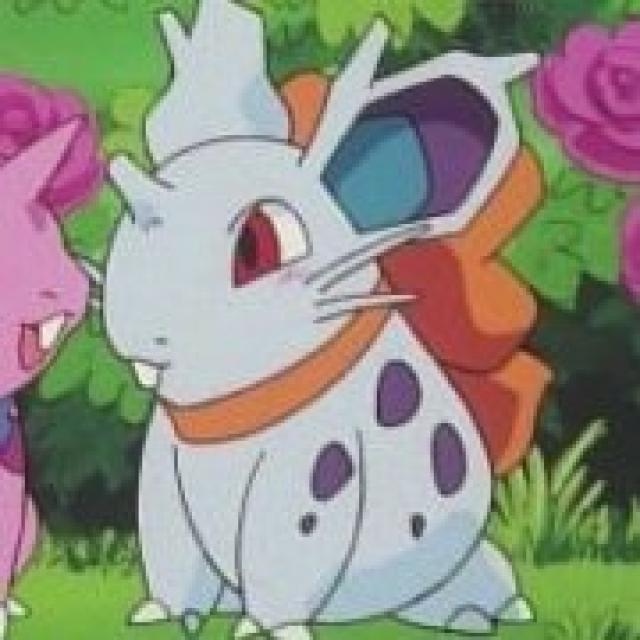Nidorina: (111, 58, 548, 629)
